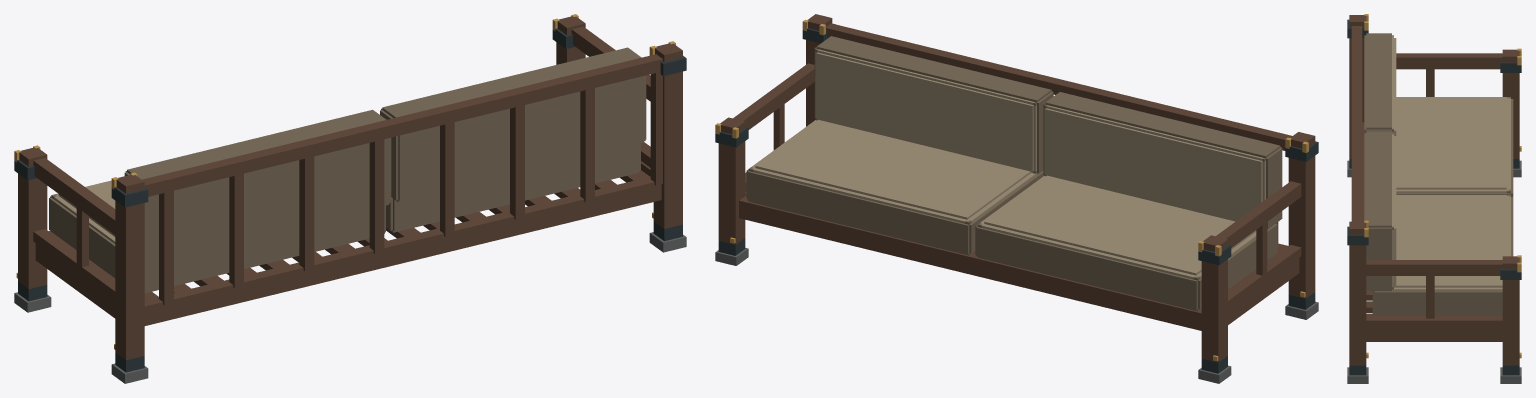
The picture shows the model from 3 angles, left to right: view 1: azimuth 30°, elevation 25°; view 2: azimuth 150°, elevation 25°; view 3: azimuth 270°, elevation 25°; orthographic projection. The views are drawn at different scales.
Parts seen in each view (by area): view 1: 沙发框架, 沙发软垫靠背; view 2: 沙发软垫靠背, 沙发框架; view 3: 沙发软垫靠背, 沙发框架.
Boxes of the visible parts, x1,y1,x2,y2 form: 沙发框架: [14, 14, 686, 383]; 沙发软垫靠背: [49, 47, 646, 293]; 沙发软垫靠背: [746, 36, 1282, 311]; 沙发框架: [715, 14, 1318, 383]; 沙发软垫靠背: [1364, 33, 1513, 315]; 沙发框架: [1347, 14, 1521, 383].
Bounding box in the file's own units: 2.4 × 0.8 × 0.82.
6 materials, 6 textured.
